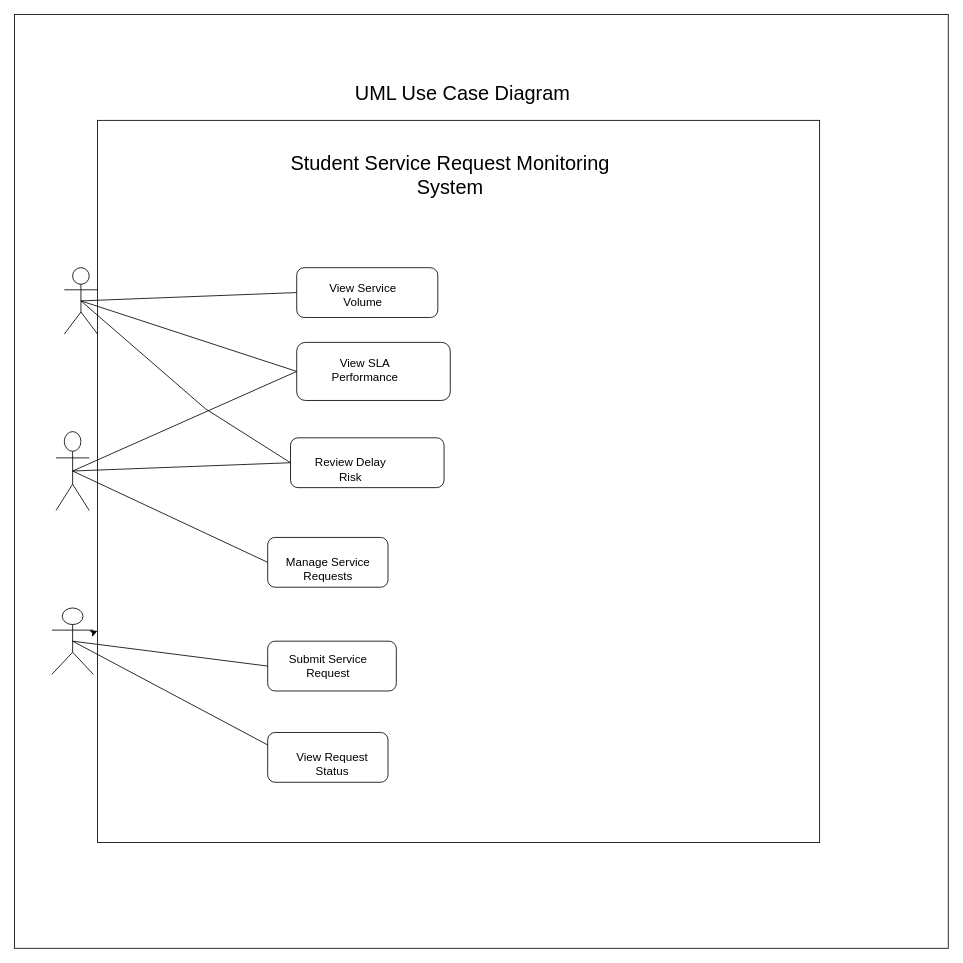
The diagram is 963 pixels wide and 963 high, and some of its shapes have lost their labels. The shapes that lost their labels are listed below. From the top down, each one's centre as x and y in pixels, then its label:
At (x=80, y=300): "Administrator".
At (x=72, y=470): "Service Office Staff".
At (x=72, y=640): "Student".
